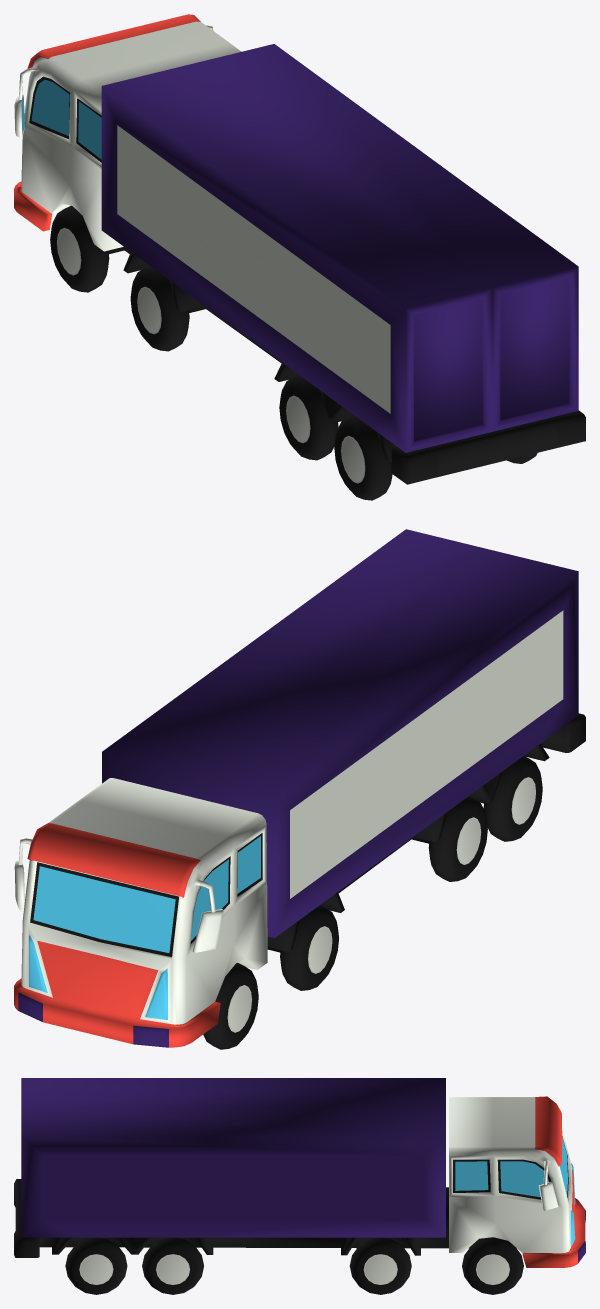
Rendered from truck.glb.
3 renders of one model, top to bottom at view 1: azimuth 30°, elevation 25°; view 2: azimuth 150°, elevation 25°; view 3: azimuth 270°, elevation 25°, orthographic. The views are drawn at different scales.
Parts seen in each view (by area): view 1: Node2; view 2: Node2; view 3: Node2.
Part boxes in pixels (left/top/right/bottom): Node2: left=14, top=14, right=585, bottom=500; Node2: left=14, top=529, right=585, bottom=1049; Node2: left=14, top=1078, right=585, bottom=1294.
Bounding box in the file's own units: 3.12 × 3.31 × 10.65.
